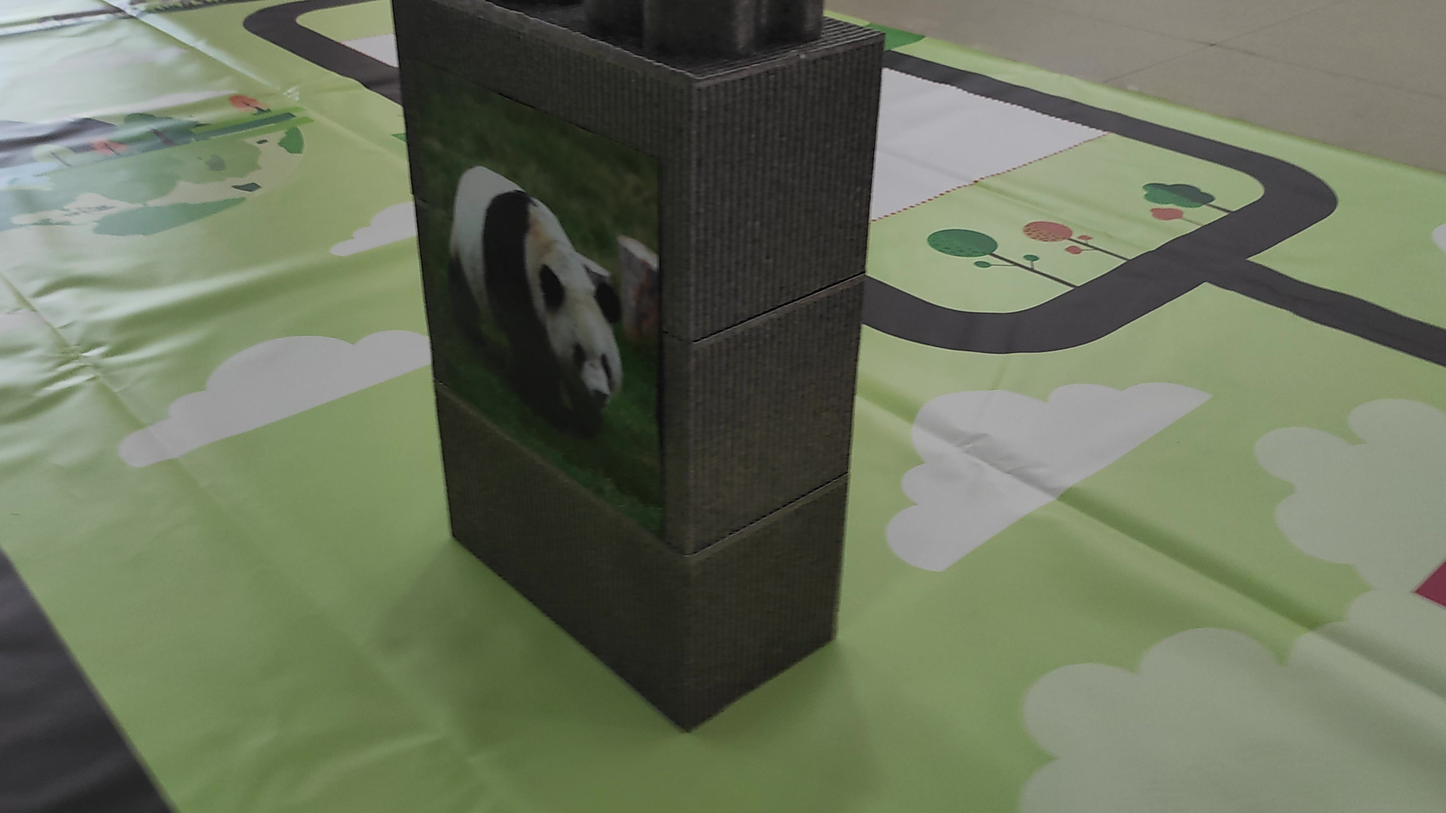panda: (417, 150, 642, 426)
